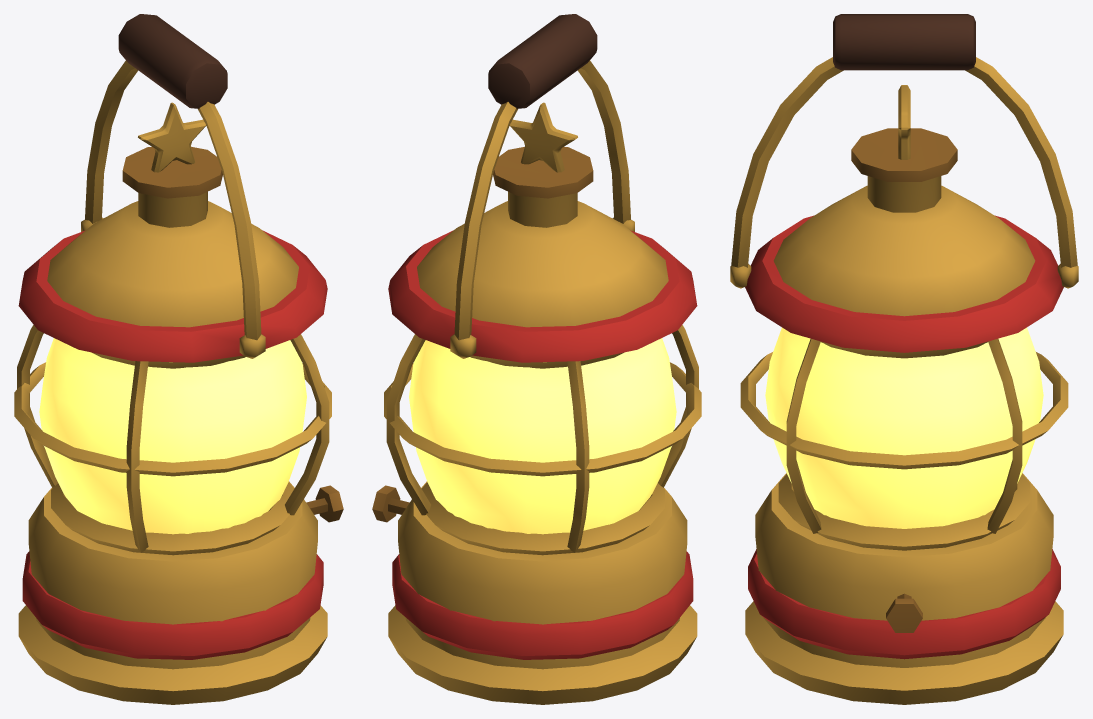
File: hand-lantern.glb
3 renders of one model, left to right at view 1: azimuth 30°, elevation 25°; view 2: azimuth 150°, elevation 25°; view 3: azimuth 270°, elevation 25°, orthographic. The views are drawn at different scales.
Parts seen in each view (by area): view 1: Hand lantern Brass, Hand lantern Lantern glow, Hand lantern Red lacquer, Hand lantern Dark wood, Hand lantern Dark brass; view 2: Hand lantern Brass, Hand lantern Lantern glow, Hand lantern Red lacquer, Hand lantern Dark wood, Hand lantern Dark brass; view 3: Hand lantern Brass, Hand lantern Lantern glow, Hand lantern Red lacquer, Hand lantern Dark wood, Hand lantern Dark brass.
Boxes of the visible parts, left/top/right/bottom form: Hand lantern Brass: left=14, top=60, right=331, bottom=704; Hand lantern Lantern glow: left=39, top=338, right=306, bottom=534; Hand lantern Red lacquer: left=18, top=230, right=327, bottom=659; Hand lantern Dark wood: left=118, top=14, right=227, bottom=108; Hand lantern Dark brass: left=122, top=146, right=343, bottom=522; Hand lantern Brass: left=384, top=60, right=701, bottom=704; Hand lantern Lantern glow: left=409, top=338, right=676, bottom=534; Hand lantern Red lacquer: left=388, top=230, right=697, bottom=659; Hand lantern Dark wood: left=488, top=14, right=597, bottom=108; Hand lantern Dark brass: left=372, top=146, right=593, bottom=522; Hand lantern Brass: left=730, top=57, right=1078, bottom=704; Hand lantern Lantern glow: left=765, top=327, right=1043, bottom=528; Hand lantern Red lacquer: left=745, top=215, right=1063, bottom=659; Hand lantern Dark wood: left=833, top=14, right=975, bottom=70; Hand lantern Dark brass: left=851, top=128, right=957, bottom=632.
Bounding box in the file's own units: 0.1753 × 0.337 × 0.1704.
